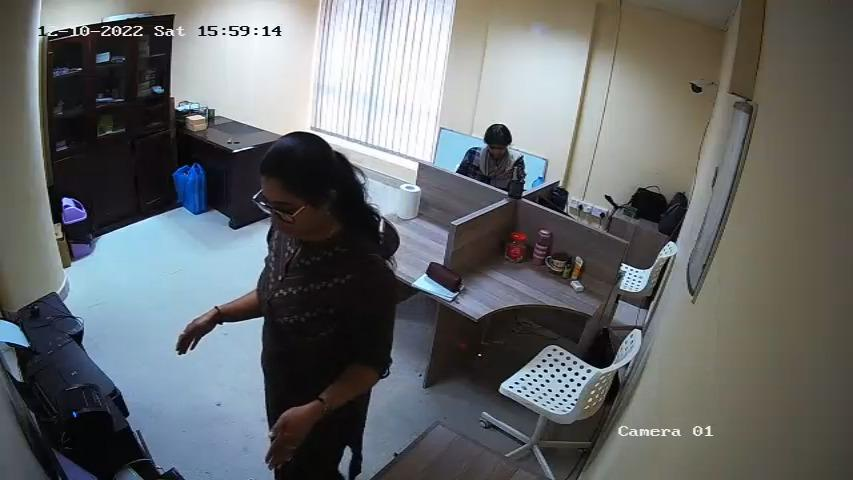no_gloves: (261, 403, 323, 476), (176, 307, 215, 357)
